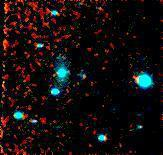star: (124, 63, 154, 93)
